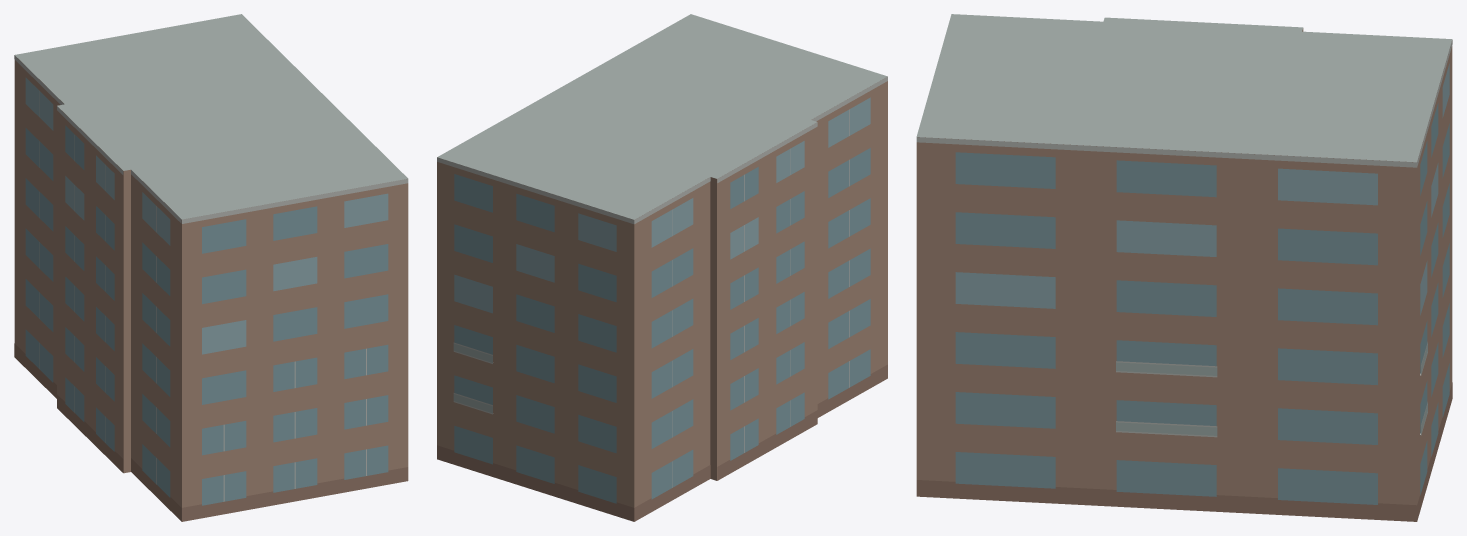
The model's file is survey-upis-32669182.glb.
The picture shows the model from 3 angles, left to right: view 1: azimuth 30°, elevation 25°; view 2: azimuth 150°, elevation 25°; view 3: azimuth 270°, elevation 25°; orthographic projection. The views are drawn at different scales.
Visible parts, largest first — view 1: survey-upis-32669182.tmp; view 2: survey-upis-32669182.tmp; view 3: survey-upis-32669182.tmp.
Part boxes in pixels (x1,y1,x2,y2): survey-upis-32669182.tmp: (14,14,408,521); survey-upis-32669182.tmp: (437,14,887,521); survey-upis-32669182.tmp: (916,14,1452,521).
Bounding box in the file's own units: 14.47 × 16.35 × 22.1.
